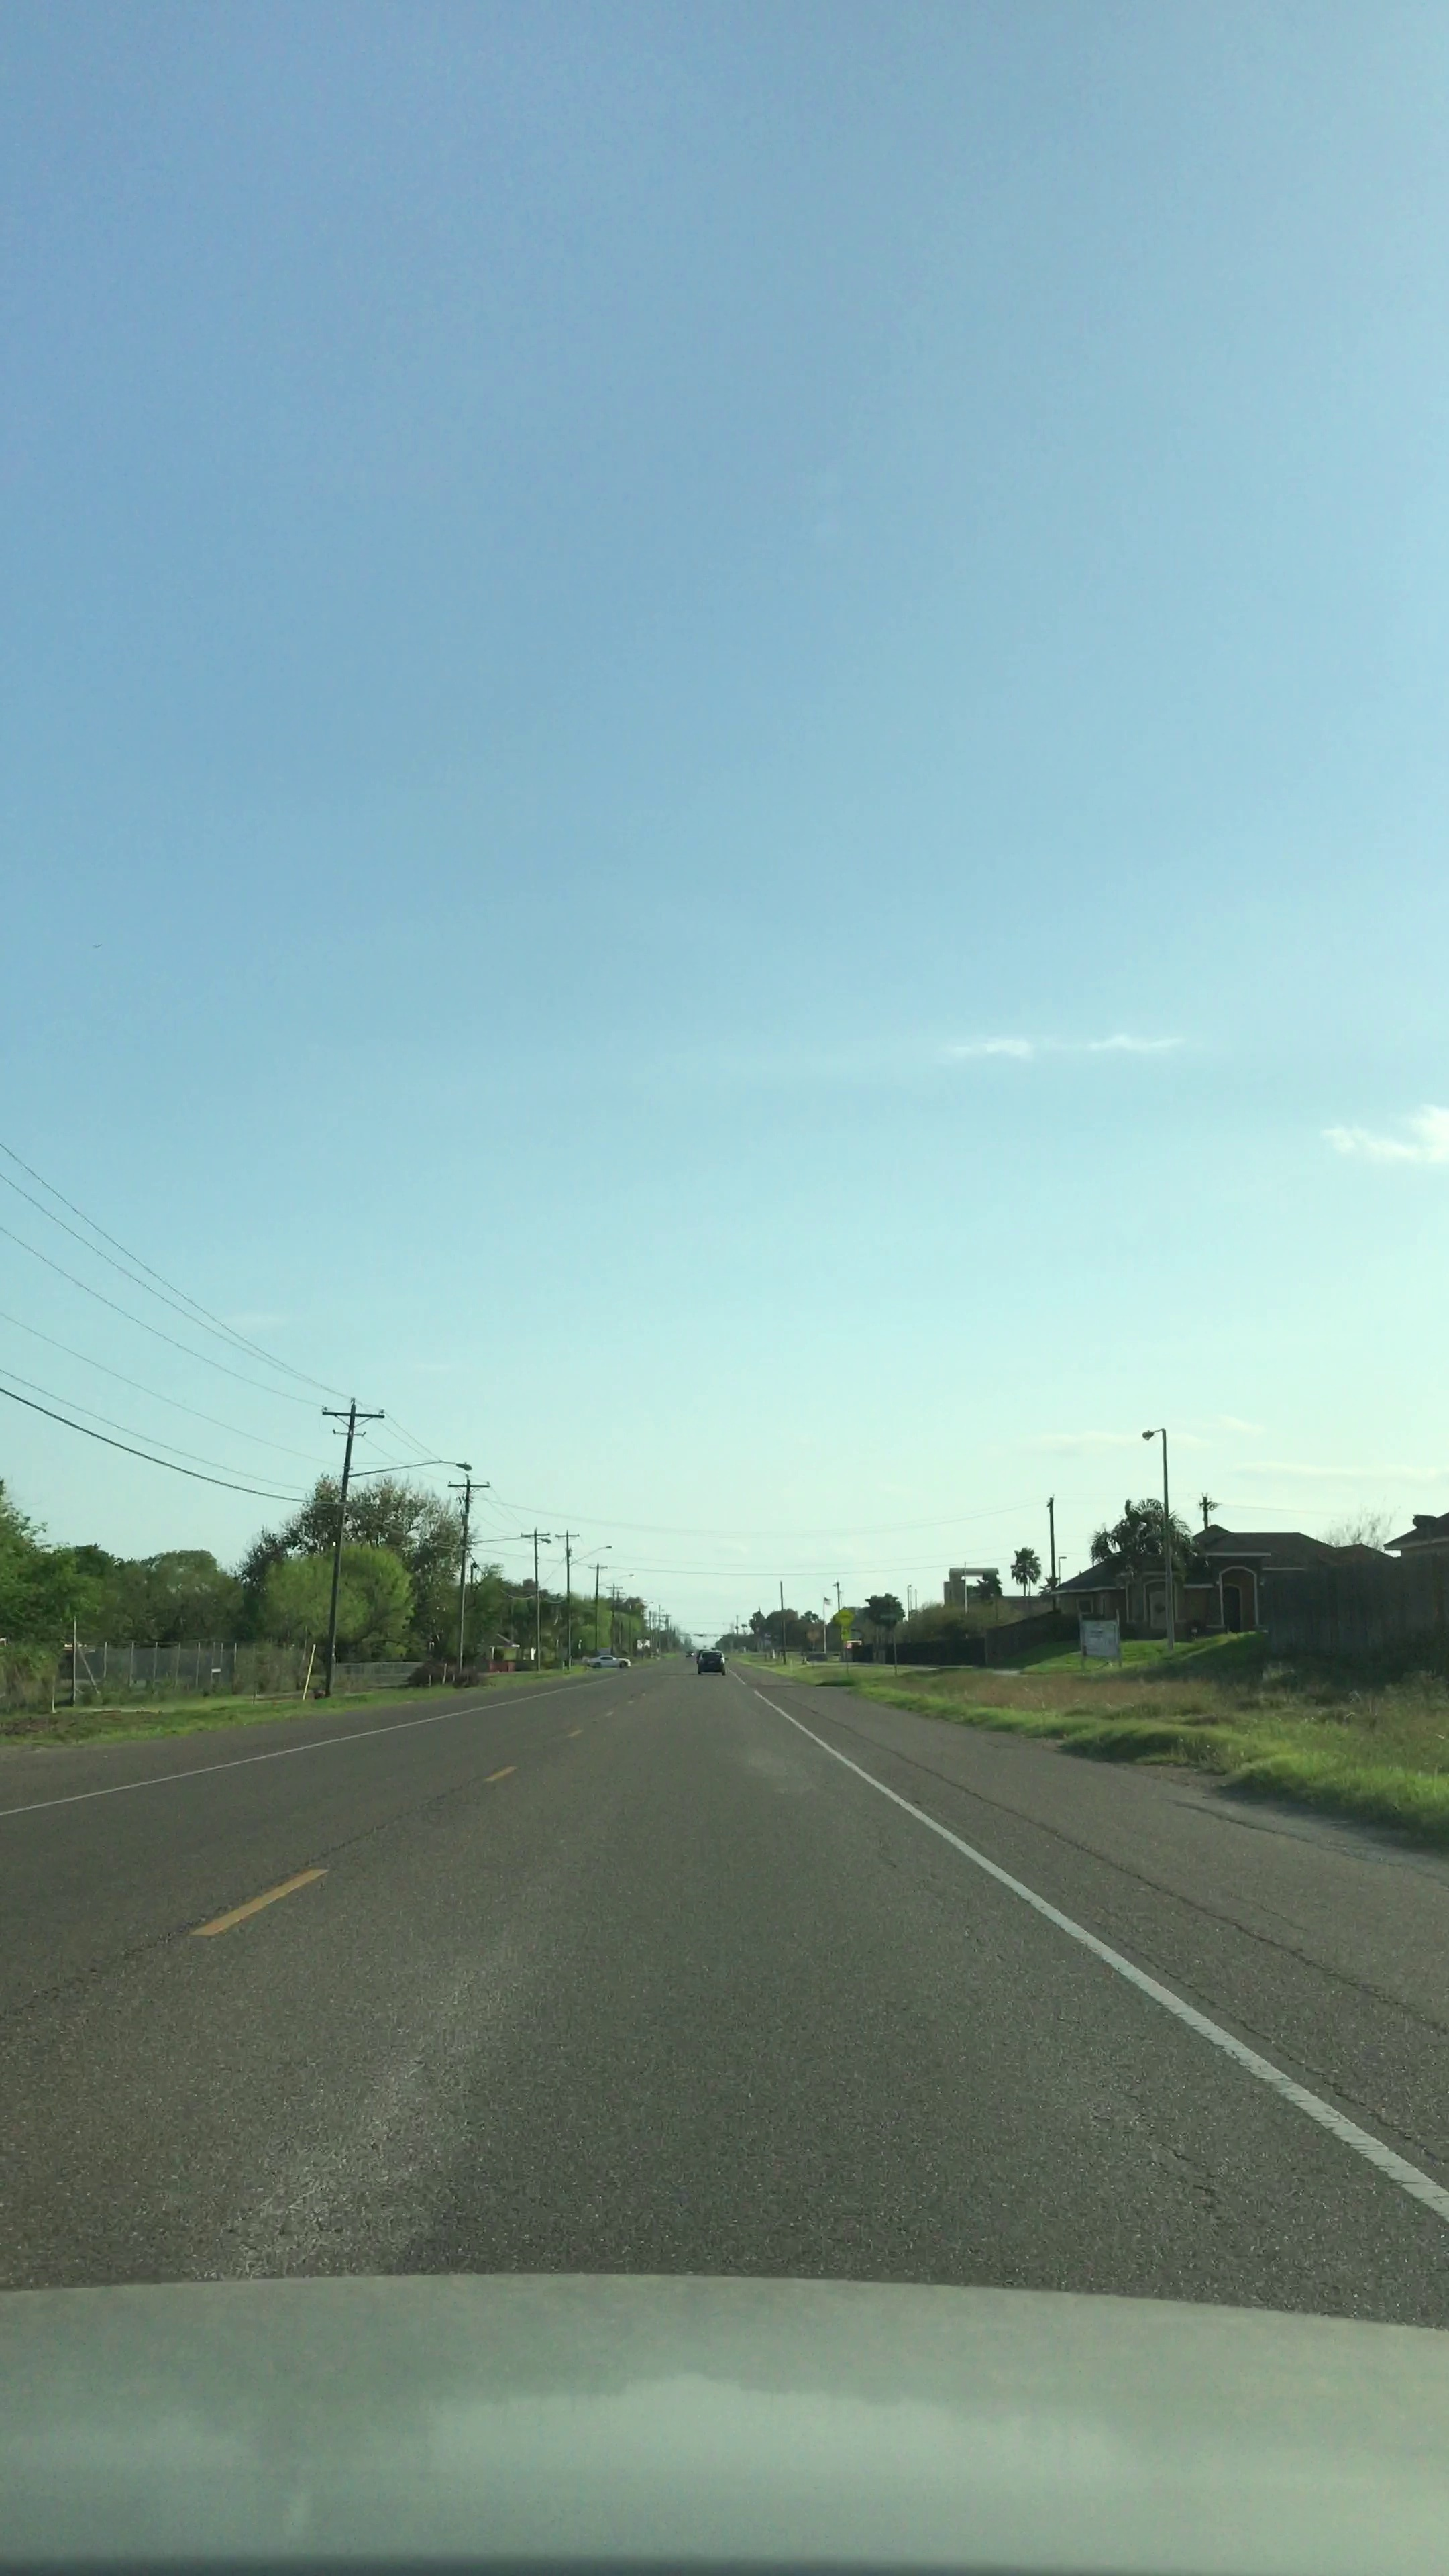crack: (1063, 2019, 1309, 2302)
